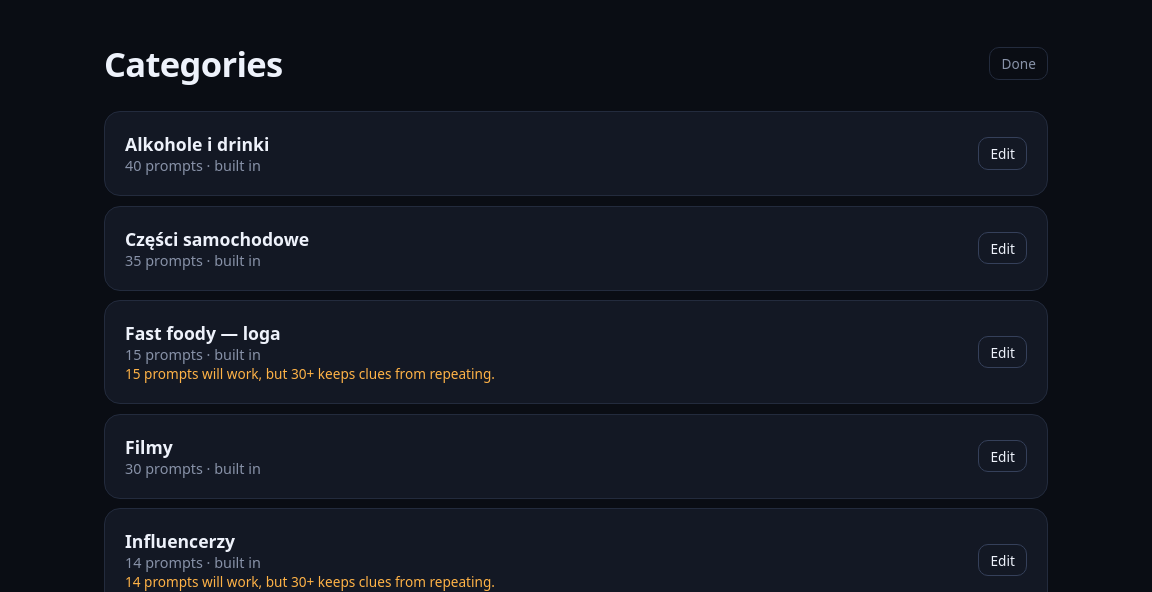
Test: CategoryEditorScreen › loads an existing category into the form for editing
Click the button "Edit" in the row of "Alkohole i drinki" at (1003, 154), box 978,137 -> 1027,170
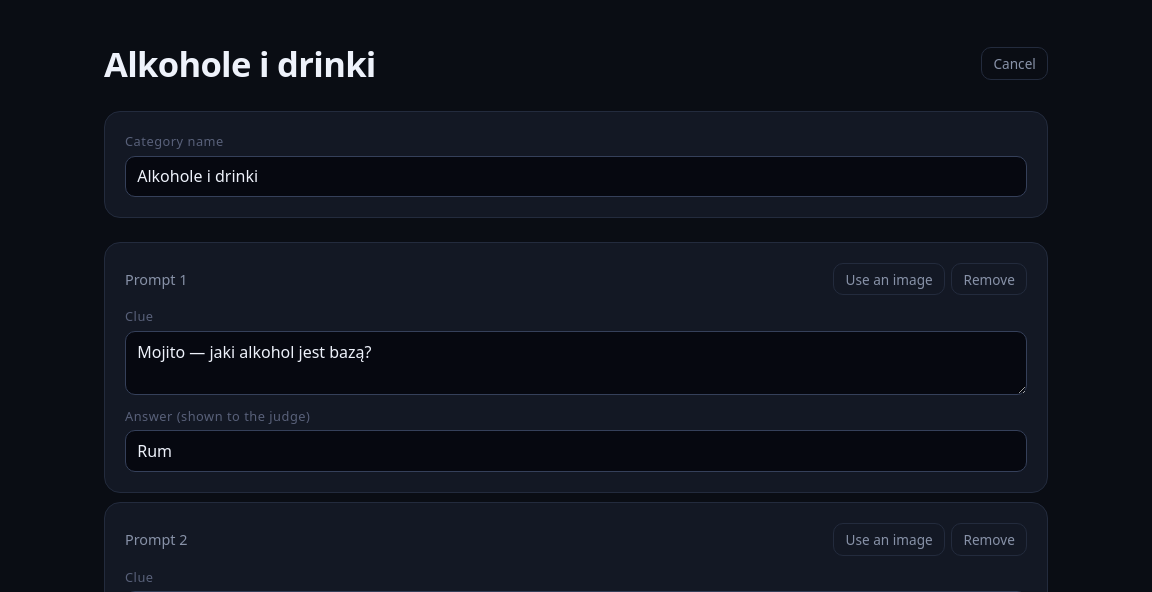
Expected: the field labelled "Category name" holds "Alkohole i drinki", 125,156 -> 1027,197
Expected: the number of fields labelled "Answer (shown to the judge)" is 40
